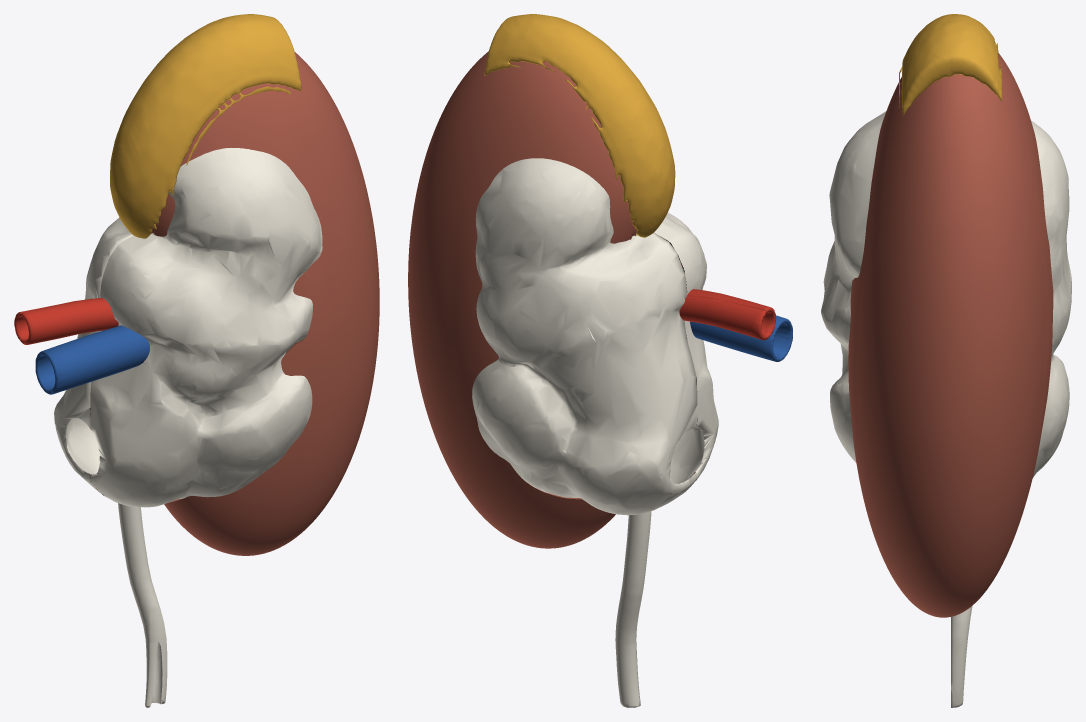
File: kidney_hydro_4_coronal.glb
3 renders of one model, left to right at view 1: azimuth 30°, elevation 25°; view 2: azimuth 150°, elevation 25°; view 3: azimuth 270°, elevation 25°, orthographic. The views are drawn at different scales.
Visible parts, largest first — view 1: anterior_half, renal_pelvis, ureter, adrenal_gland; view 2: renal_pelvis, renal_cortex, adrenal_gland, anterior_half, ureter, renal_artery; view 3: anterior_half, renal_cortex, renal_pelvis, adrenal_gland, ureter.
Boxes of the visible parts, x1,y1,x2,y2 form: anterior_half: [20, 18, 379, 555]; renal_pelvis: [54, 217, 133, 498]; ureter: [118, 503, 167, 707]; adrenal_gland: [110, 14, 277, 234]; renal_pelvis: [472, 158, 697, 515]; renal_cortex: [408, 51, 636, 548]; adrenal_gland: [484, 15, 670, 237]; anterior_half: [511, 14, 792, 541]; ureter: [615, 511, 651, 707]; renal_artery: [679, 295, 766, 340]; anterior_half: [821, 14, 950, 617]; renal_cortex: [951, 53, 1053, 616]; renal_pelvis: [1031, 120, 1071, 477]; adrenal_gland: [951, 14, 1001, 101]; ureter: [951, 606, 972, 707].
Bounding box in the file's own units: 7.85 × 14.23 × 4.48.
Materials: 1 (1 with a texture image).
